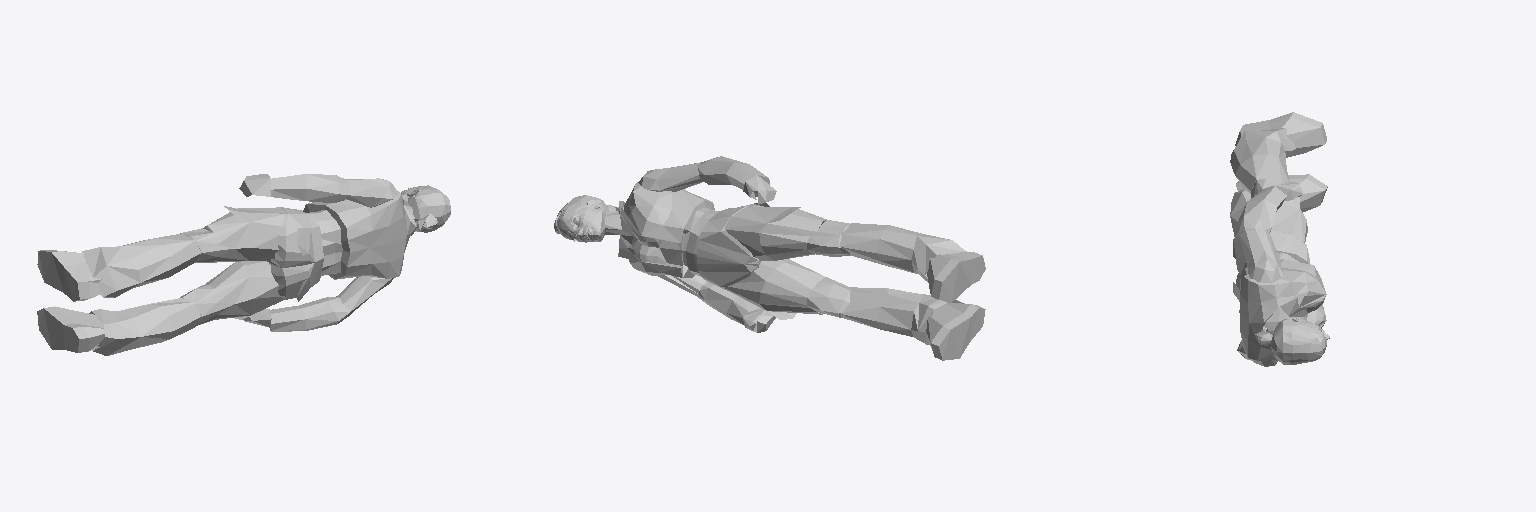
File: people.obj
3 renders of one model, left to right at view 1: azimuth 30°, elevation 25°; view 2: azimuth 150°, elevation 25°; view 3: azimuth 270°, elevation 25°, orthographic.
Size of the model in its own units: 1.71 by 0.6402 by 0.3735.